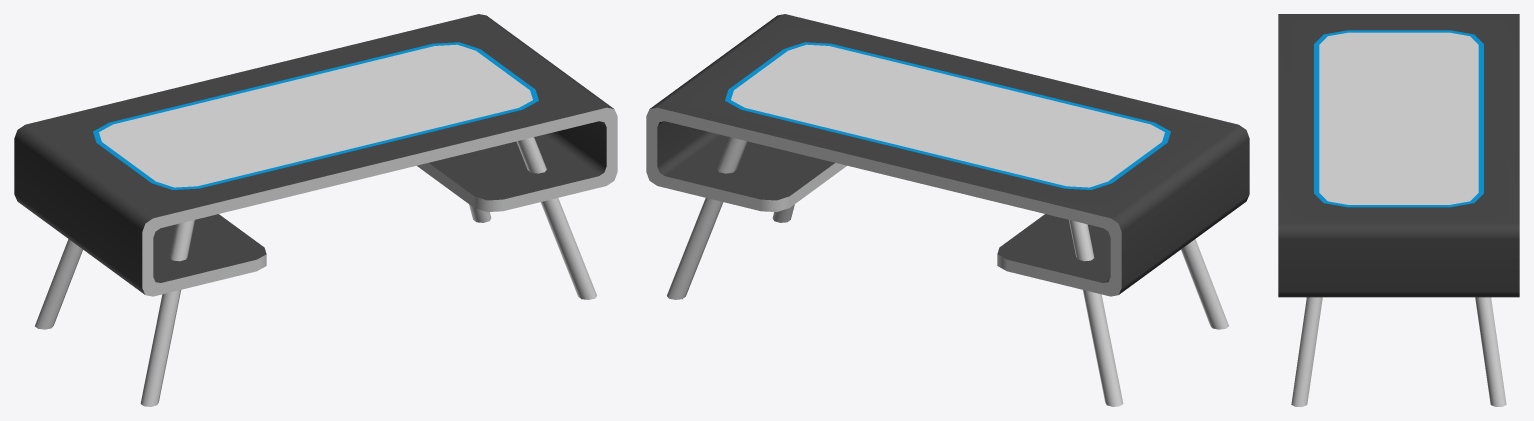
File: Desk_028.fbx
The picture shows the model from 3 angles, left to right: view 1: azimuth 30°, elevation 25°; view 2: azimuth 150°, elevation 25°; view 3: azimuth 270°, elevation 25°; orthographic projection. The views are drawn at different scales.
Visible parts, largest first — view 1: Desk_028; view 2: Desk_028; view 3: Desk_028.
Part boxes in pixels (bbox=[...]): Desk_028: bbox=[14, 14, 617, 406]; Desk_028: bbox=[646, 14, 1249, 406]; Desk_028: bbox=[1278, 14, 1519, 406].
Size of the model in its own units: 224 by 104 by 87.75.
